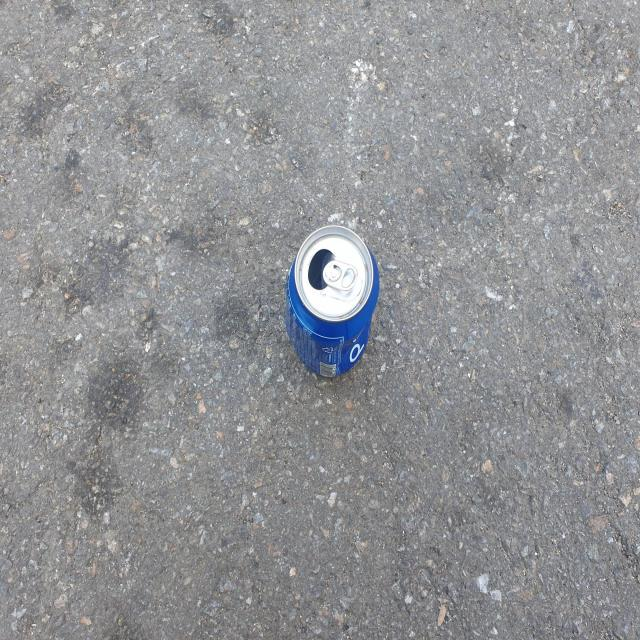can: (286, 224, 380, 378)
